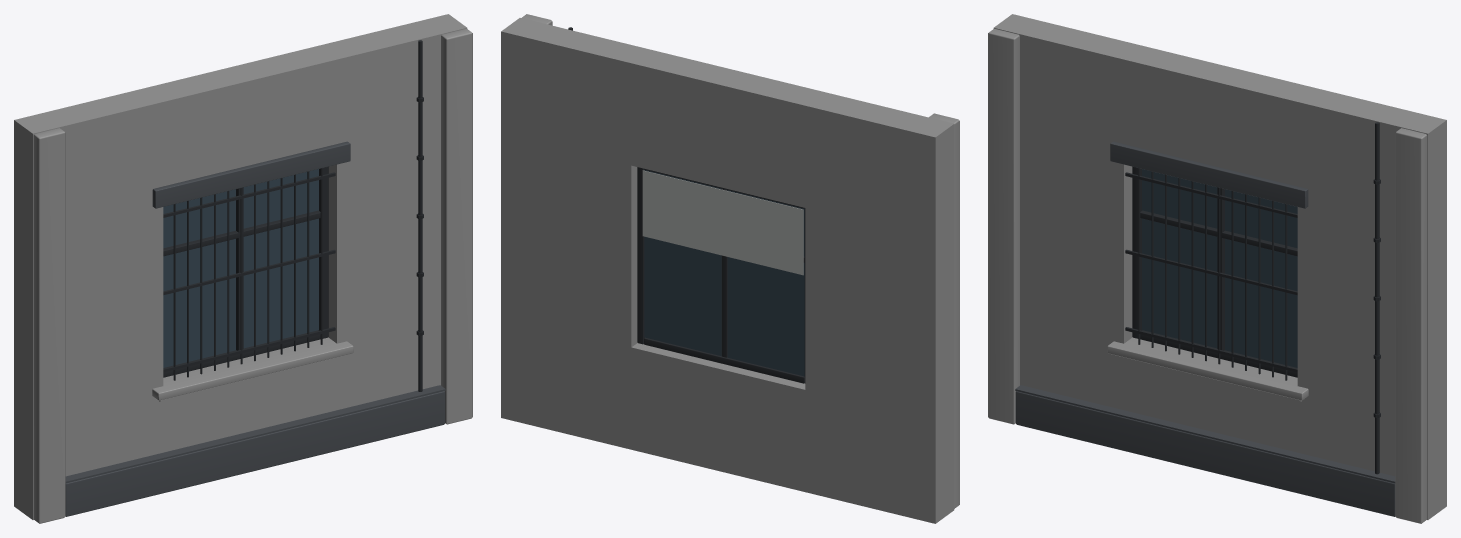
Rendered from Facade_Plaster_Window.fbx.
3 renders of one model, left to right at view 1: azimuth 30°, elevation 25°; view 2: azimuth 150°, elevation 25°; view 3: azimuth 330°, elevation 25°, orthographic.
Visible parts, largest first — view 1: Facade_Plaster_Window_LOD0; view 2: Facade_Plaster_Window_LOD0; view 3: Facade_Plaster_Window_LOD0.
Part boxes in pixels (box(x1,y1,x2,y2)): Facade_Plaster_Window_LOD0: box(14, 14, 472, 523); Facade_Plaster_Window_LOD0: box(501, 14, 959, 523); Facade_Plaster_Window_LOD0: box(988, 14, 1446, 523).
Size of what is drawn, in the model's own units: 4 by 3.4 by 0.4.
